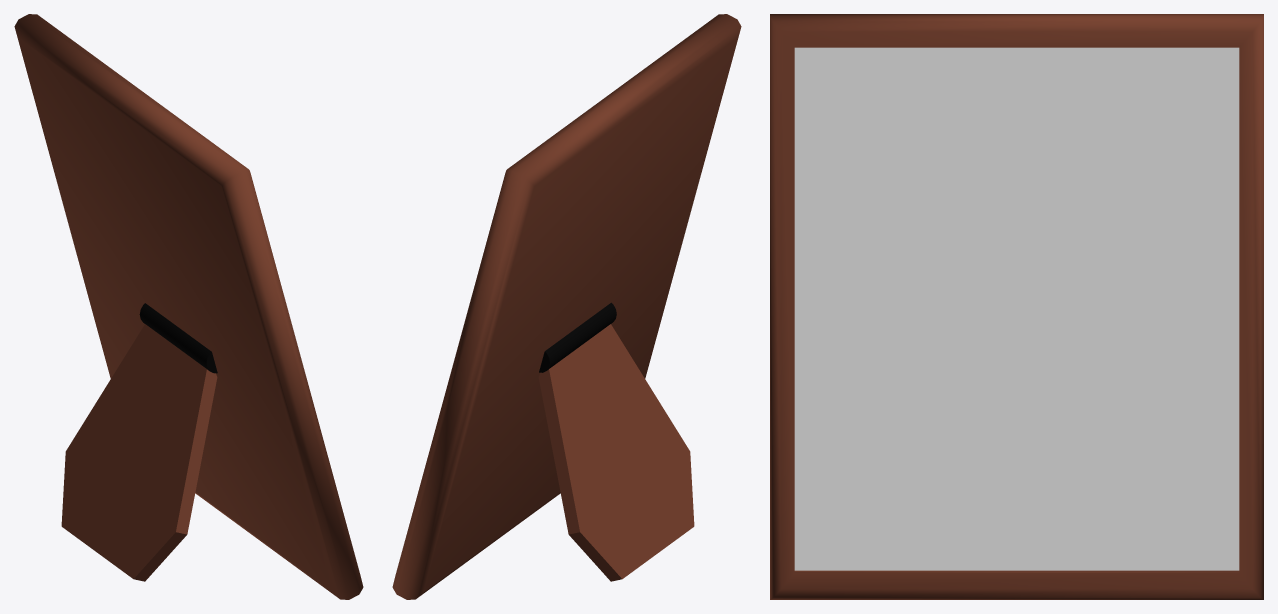
The model's file is S_PictureFrame.fbx.
The picture shows the model from 3 angles, left to right: view 1: azimuth 30°, elevation 25°; view 2: azimuth 150°, elevation 25°; view 3: azimuth 270°, elevation 25°; orthographic projection. The views are drawn at different scales.
Parts seen in each view (by area): view 1: S_CadrePhoto.002; view 2: S_CadrePhoto.002; view 3: S_CadrePhoto.002.
Boxes of the visible parts, x1=… form: S_CadrePhoto.002: x1=14, y1=14, x2=363, y2=599; S_CadrePhoto.002: x1=392, y1=14, x2=741, y2=599; S_CadrePhoto.002: x1=770, y1=14, x2=1263, y2=599.
Bounding box in the file's own units: 8.64 × 23.42 × 20.
